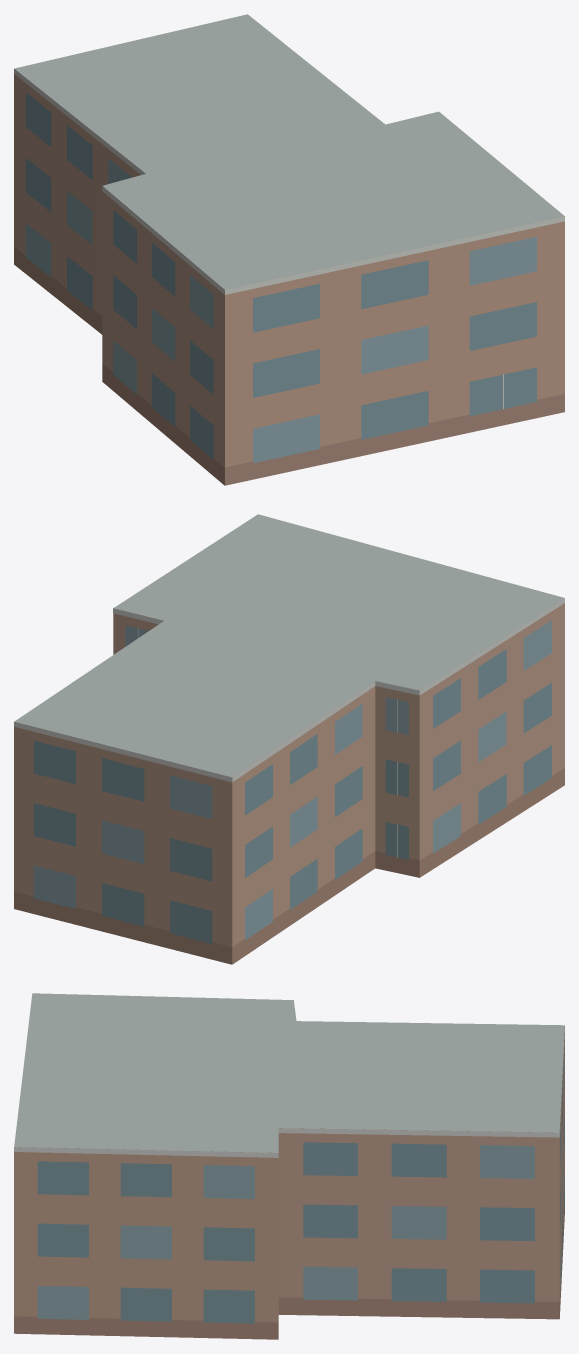
File: survey-upis-32862187.glb
The picture shows the model from 3 angles, top to bottom: view 1: azimuth 30°, elevation 25°; view 2: azimuth 150°, elevation 25°; view 3: azimuth 270°, elevation 25°; orthographic projection. The views are drawn at different scales.
Parts seen in each view (by area): view 1: survey-upis-32862187.tmp; view 2: survey-upis-32862187.tmp; view 3: survey-upis-32862187.tmp.
Boxes of the visible parts, x1,y1,x2,y2 form: survey-upis-32862187.tmp: (14,14,564,485); survey-upis-32862187.tmp: (14,514,564,964); survey-upis-32862187.tmp: (14,993,564,1339).
Size of the model in its own units: 16.79 by 9.15 by 24.47.
